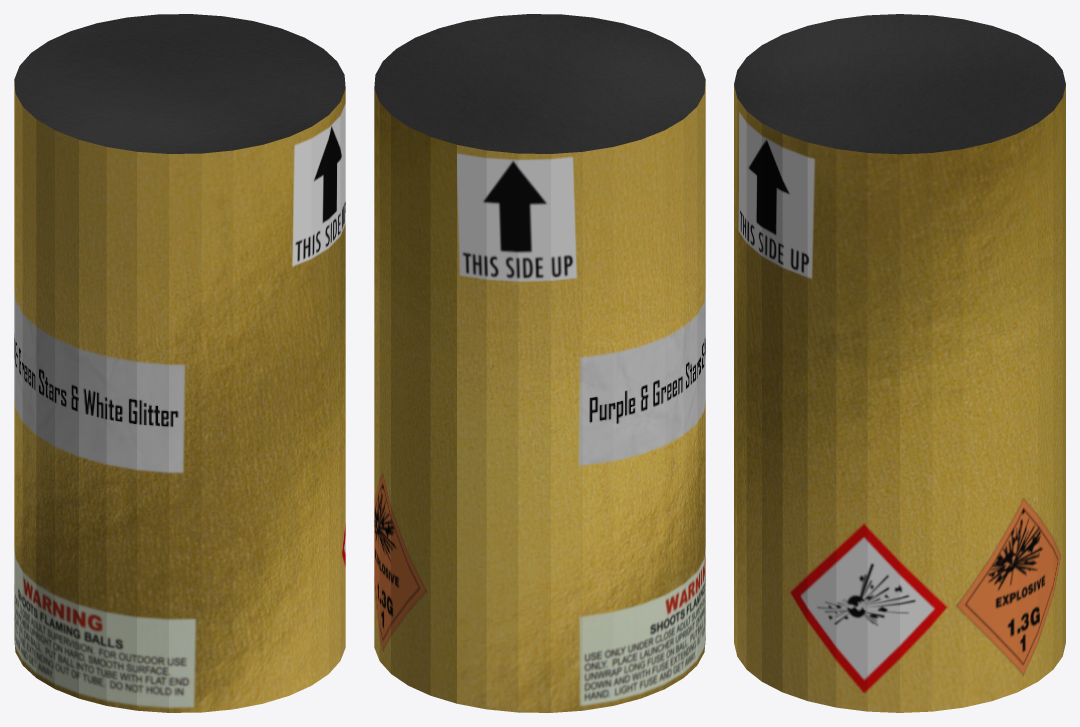
The model's file is Shell Canister 3 Inch PurpleGreenStarsWhiteGlitter.fbx.
The picture shows the model from 3 angles, left to right: view 1: azimuth 30°, elevation 25°; view 2: azimuth 150°, elevation 25°; view 3: azimuth 270°, elevation 25°; orthographic projection.
Parts seen in each view (by area): view 1: Cylinder; view 2: Cylinder; view 3: Cylinder.
Part boxes in pixels (box(x1,y1,x2,y2)): Cylinder: box(14, 14, 345, 712); Cylinder: box(374, 14, 705, 712); Cylinder: box(734, 14, 1065, 712).
Size of the model in its own units: 14 by 26 by 14.
